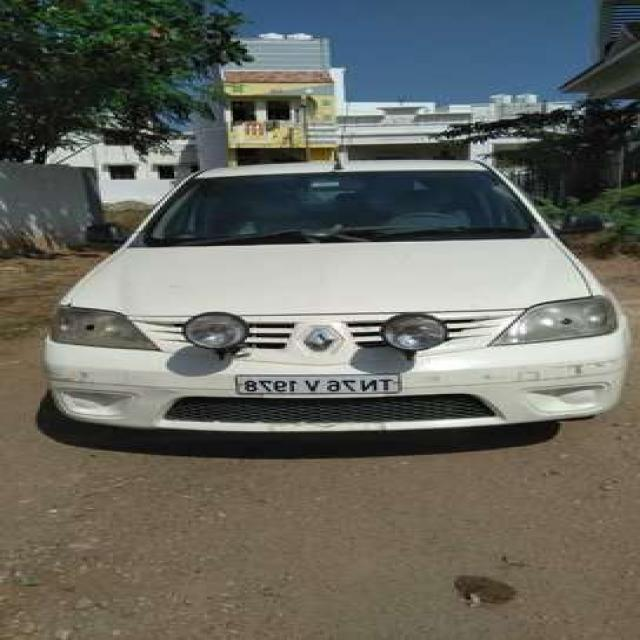license_plate: (228, 369, 408, 405)
